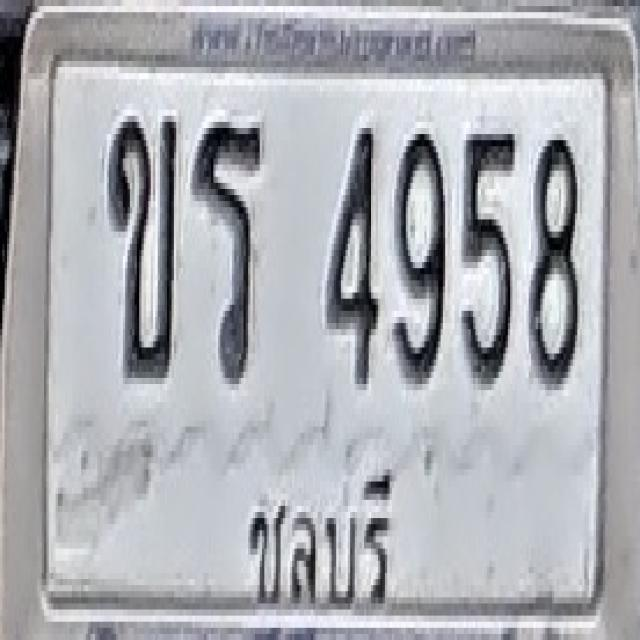4: (325, 122, 378, 384)
5: (460, 128, 516, 384)
8: (529, 131, 577, 387)
9: (393, 128, 444, 384)
A02: (108, 110, 177, 378)
A35: (192, 116, 264, 384)
CBI: (237, 432, 406, 636)
